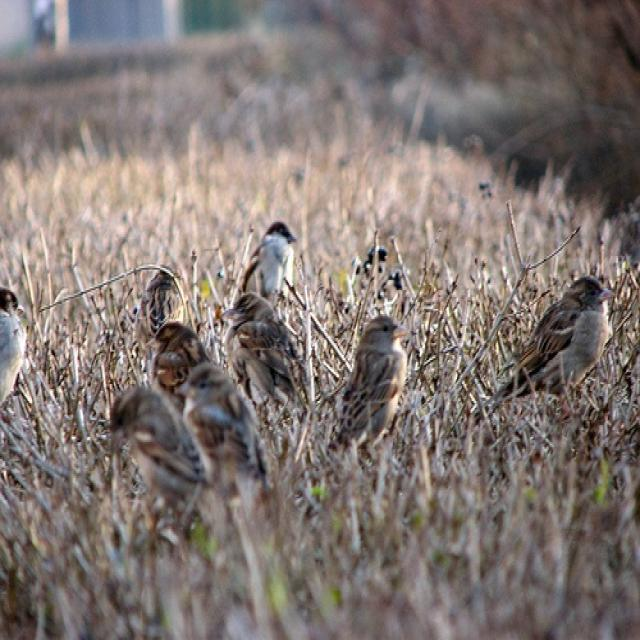bird: (476, 277, 616, 435), (105, 386, 206, 526), (327, 307, 412, 464), (170, 358, 268, 494), (219, 300, 302, 413), (241, 220, 298, 295), (122, 263, 190, 319), (150, 319, 200, 384), (2, 284, 27, 412)
